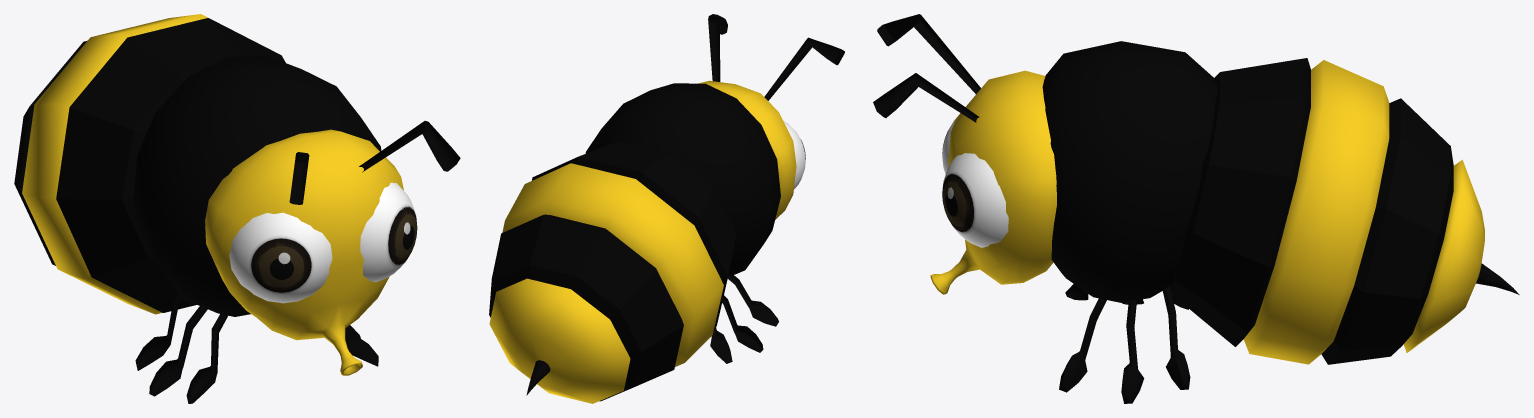
Rendered from bee_test(1).FBX.
The picture shows the model from 3 angles, left to right: view 1: azimuth 30°, elevation 25°; view 2: azimuth 150°, elevation 25°; view 3: azimuth 270°, elevation 25°; orthographic projection. The views are drawn at different scales.
Visible parts, largest first — view 1: group13_pCube11_group012; view 2: group13_pCube11_group012; view 3: group13_pCube11_group012.
Boxes of the visible parts, x1,y1,x2,y2 form: group13_pCube11_group012: (14, 14, 460, 403); group13_pCube11_group012: (489, 14, 844, 403); group13_pCube11_group012: (873, 14, 1519, 403).
Bounding box in the file's own units: 24.61 × 27.42 × 51.53.
Materials: 3 (1 with a texture image).
